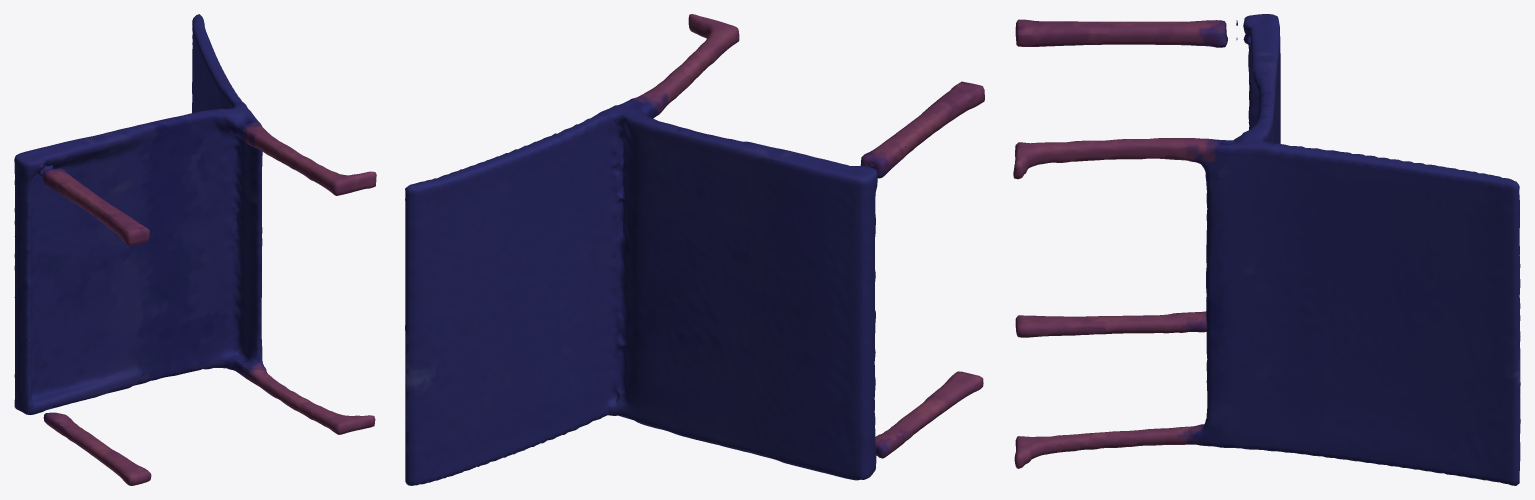
Rendered from A metal chair with black legs and a purple cushion.glb.
3 renders of one model, left to right at view 1: azimuth 30°, elevation 25°; view 2: azimuth 150°, elevation 25°; view 3: azimuth 270°, elevation 25°, orthographic. The views are drawn at different scales.
Visible parts, largest first — view 1: A metal chair with black legs and a purple cushion; view 2: A metal chair with black legs and a purple cushion; view 3: A metal chair with black legs and a purple cushion.
Boxes of the visible parts, x1,y1,x2,y2 form: A metal chair with black legs and a purple cushion: (14,14,376,485); A metal chair with black legs and a purple cushion: (405,14,984,485); A metal chair with black legs and a purple cushion: (1013,14,1520,485).
Size of the model in its own units: 0.798 by 0.6801 by 1.01.
